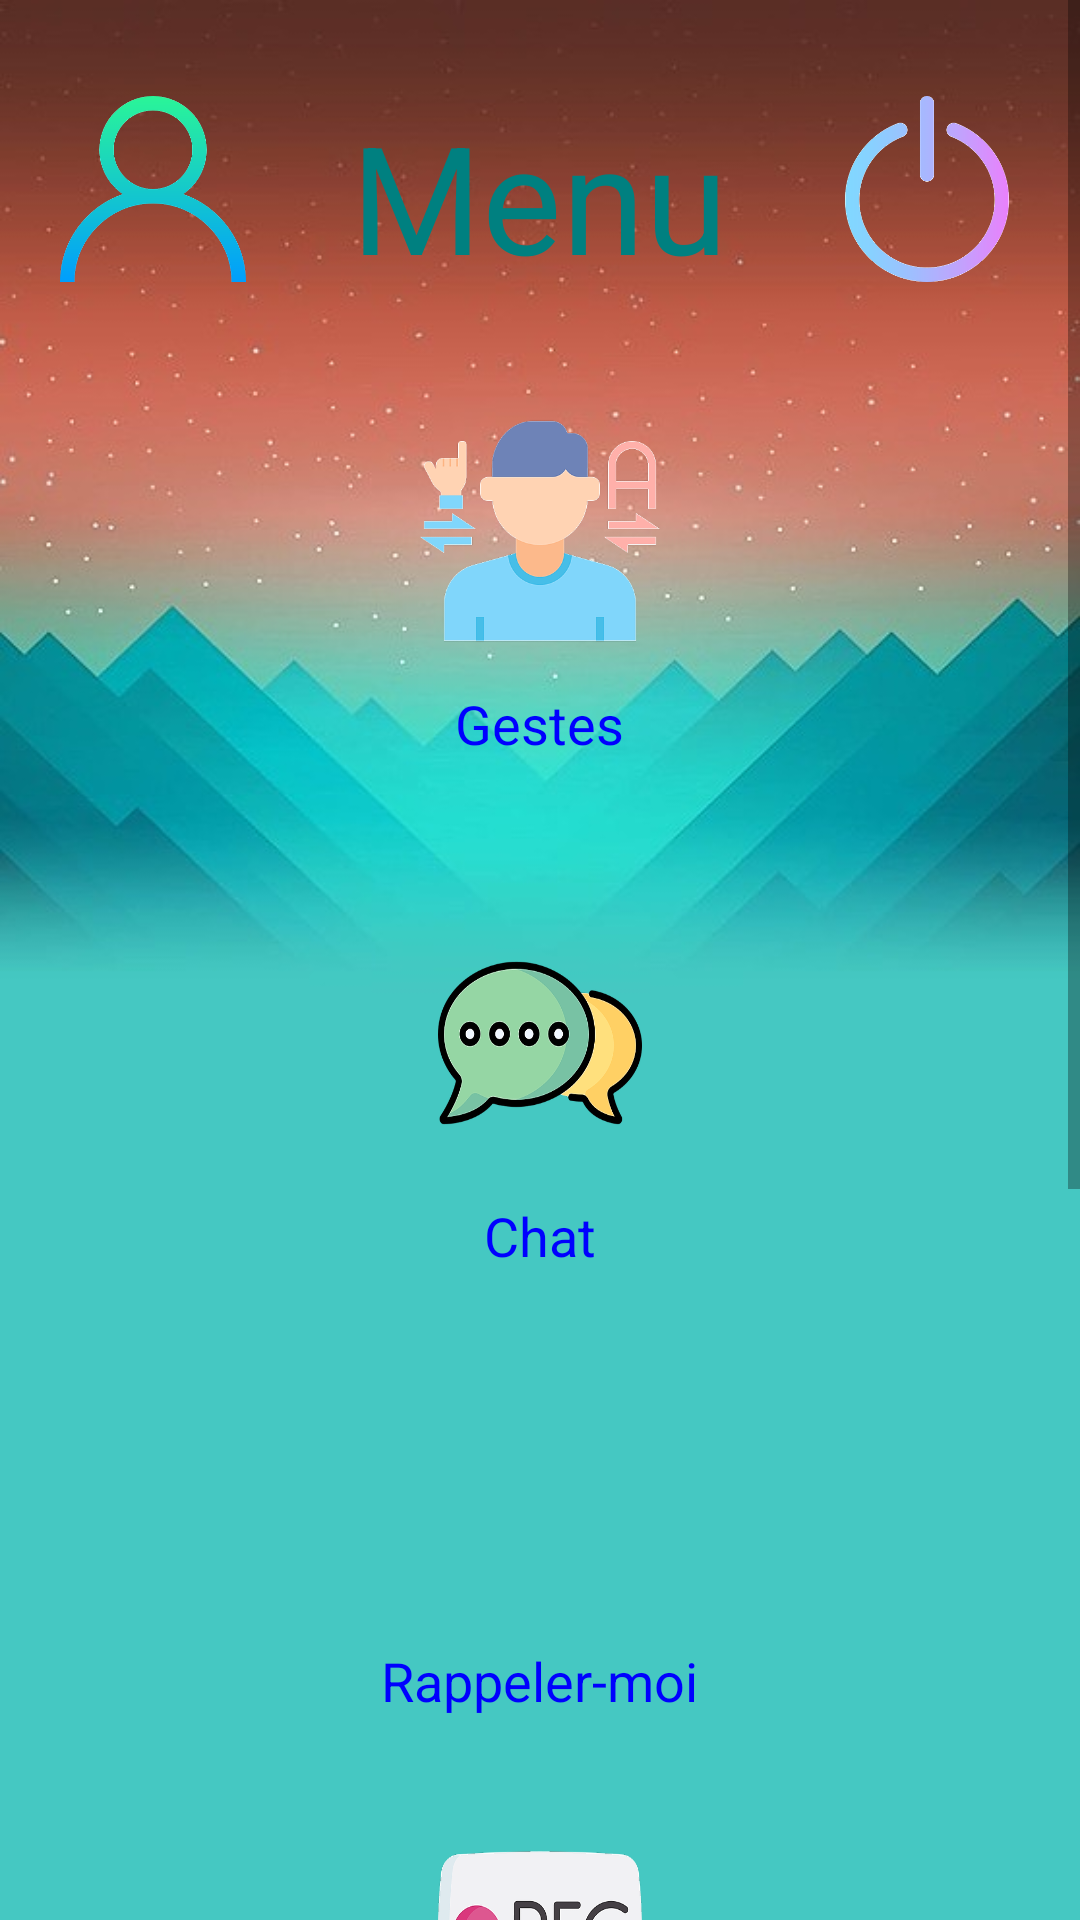

Screen size 1080w x 1920h. Icon name, then its center in pixels as point (x, y):
deaffffff: point (540, 531)
powerr: point (927, 189)
speech: point (540, 1043)
user: point (153, 189)
